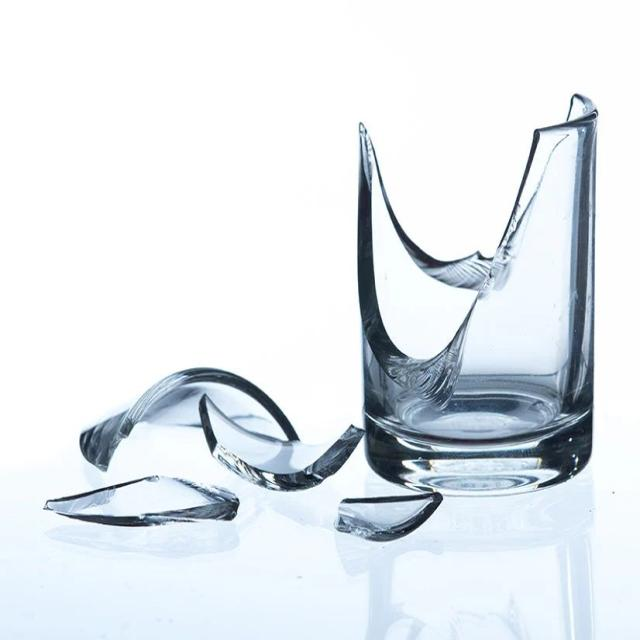electronic: (353, 87, 600, 496), (48, 364, 448, 550)
